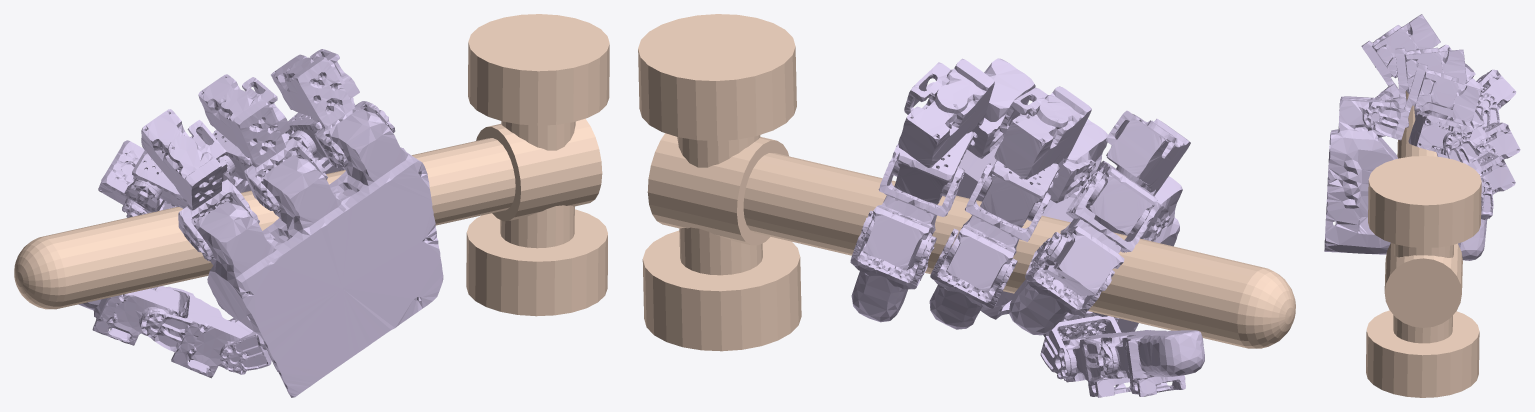
Rendered from 87eebf8c4c5b88-closed.glb.
3 views of the same model, side by side, from view 1: azimuth 30°, elevation 25°; view 2: azimuth 150°, elevation 25°; view 3: azimuth 270°, elevation 25° (orthographic). The views are drawn at different scales.
Parts seen in each view (by area): view 1: LEAP_hand, world; view 2: world, LEAP_hand; view 3: world, LEAP_hand.
Boxes of the visible parts, x1=… form: LEAP_hand: x1=78, y1=49, x2=443, y2=397; world: x1=14, y1=14, x2=609, y2=316; world: x1=638, y1=14, x2=1295, y2=351; LEAP_hand: x1=850, y1=58, x2=1204, y2=397; world: x1=1366, y1=91, x2=1481, y2=397; LEAP_hand: x1=1324, y1=14, x2=1520, y2=260.
Bounding box in the file's own units: 0.3591 × 0.1684 × 0.1319.
